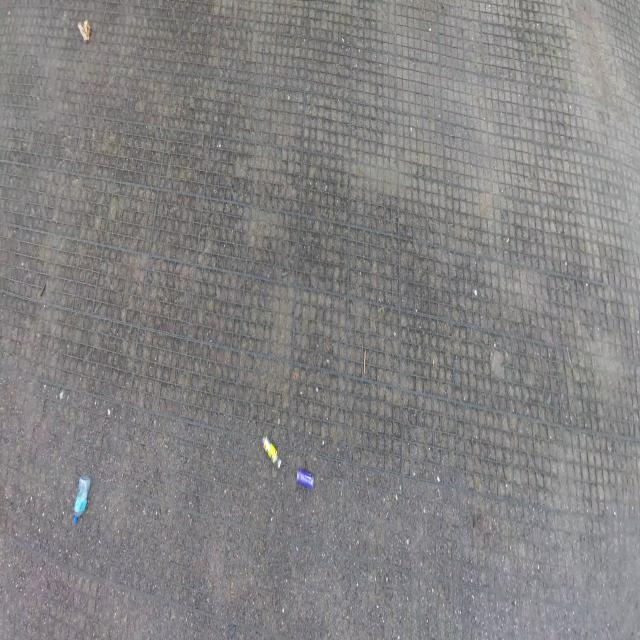rubbish: (260, 433, 282, 470), (73, 476, 90, 520), (77, 16, 92, 43), (296, 469, 314, 487)
